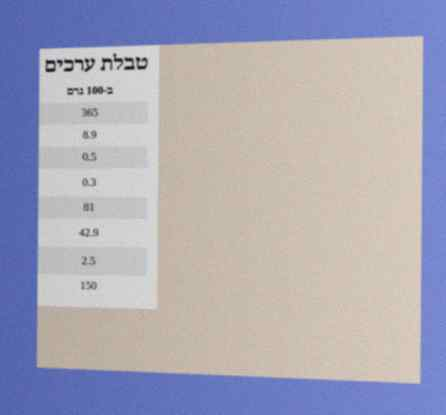carbs: (82, 200, 96, 216)
energy: (80, 105, 100, 121)
fat: (81, 149, 98, 165)
protein: (81, 127, 98, 143)
